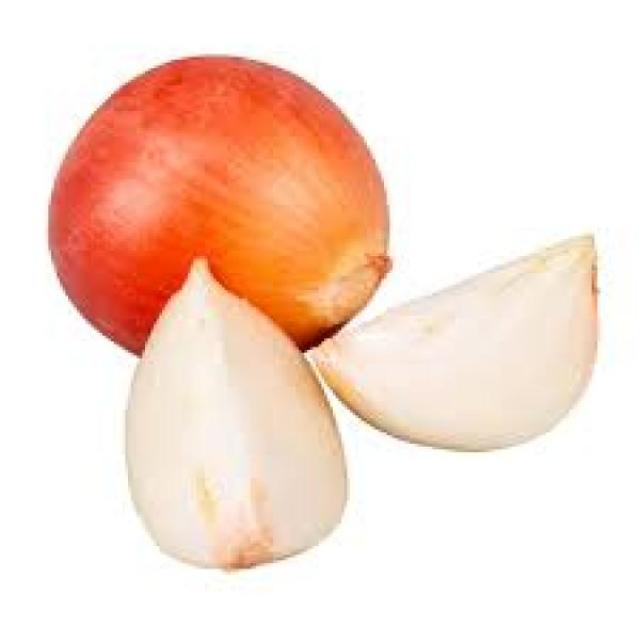Onion: (46, 55, 393, 358)
